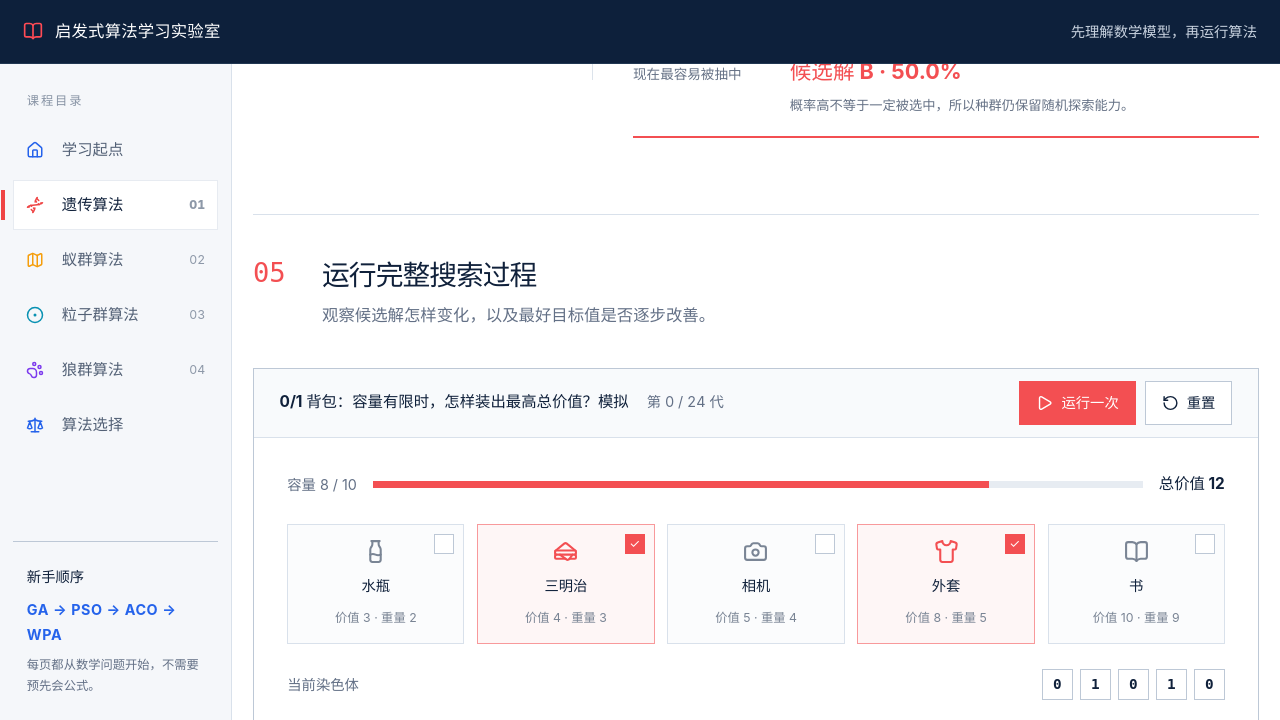
Test: beginner learning lab › advances the GA simulation when run is pressed
(page scrolled)
expect the text "第 0 / 24 代" is shown: met, box [647, 389, 724, 414]
Step 1. Click the button "运行一次" → (1078, 403), box [1020, 381, 1136, 425]
Wait 700 ms
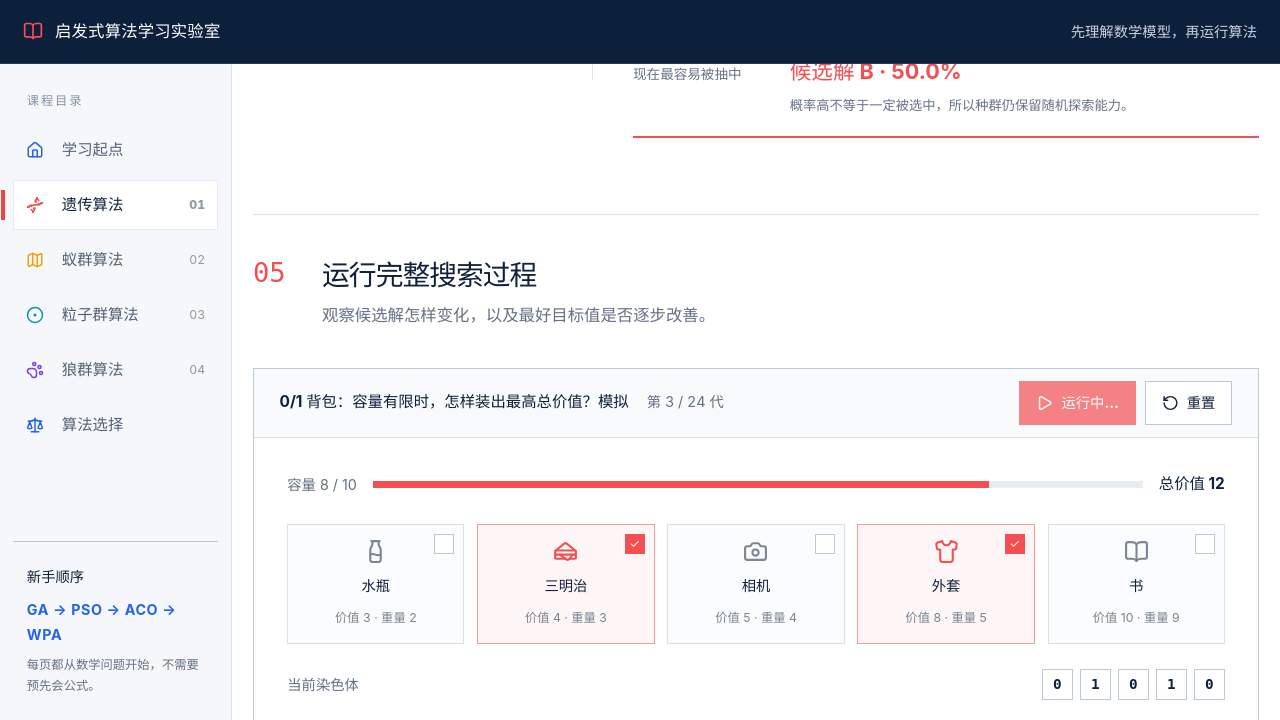
expect the text "第 0 / 24 代" is gone: met
